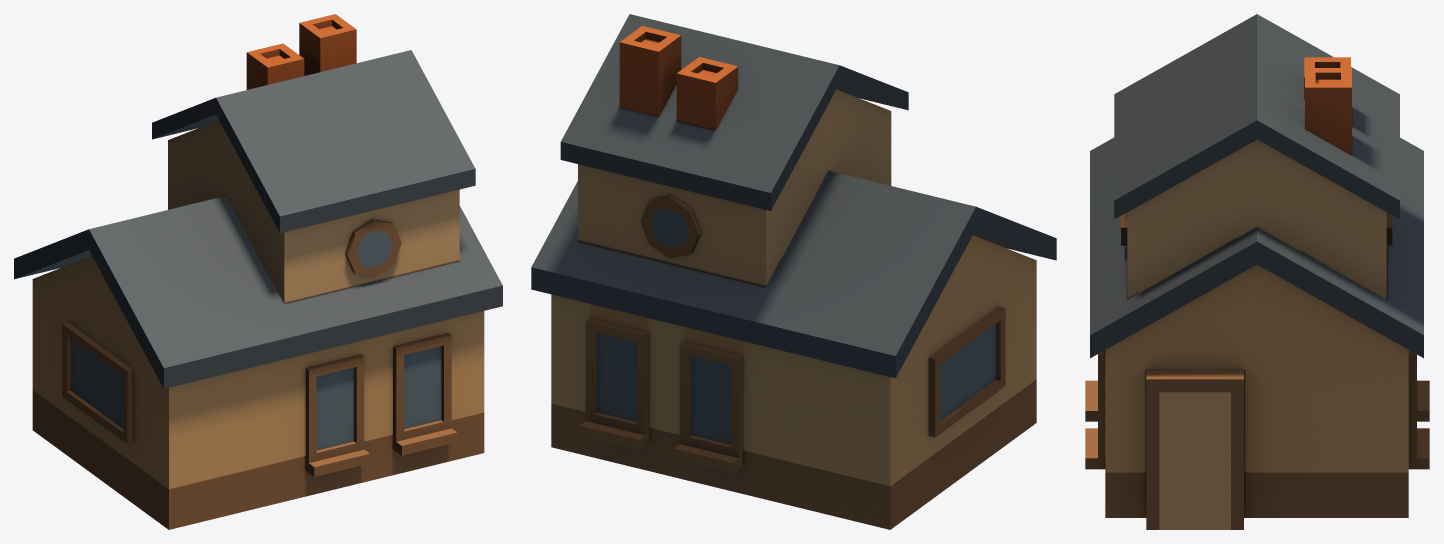
File: house.glb
3 renders of one model, left to right at view 1: azimuth 30°, elevation 25°; view 2: azimuth 150°, elevation 25°; view 3: azimuth 270°, elevation 25°, orthographic. The views are drawn at different scales.
Parts seen in each view (by area): view 1: node-0; view 2: node-0; view 3: node-0.
Part boxes in pixels (x1,y1,x2,y2): node-0: (14, 14, 502, 529); node-0: (531, 14, 1056, 529); node-0: (1085, 14, 1429, 529).
Bounding box in the file's own units: 1.43 × 1.46 × 1.11.
Materials: 1 (1 with a texture image).
